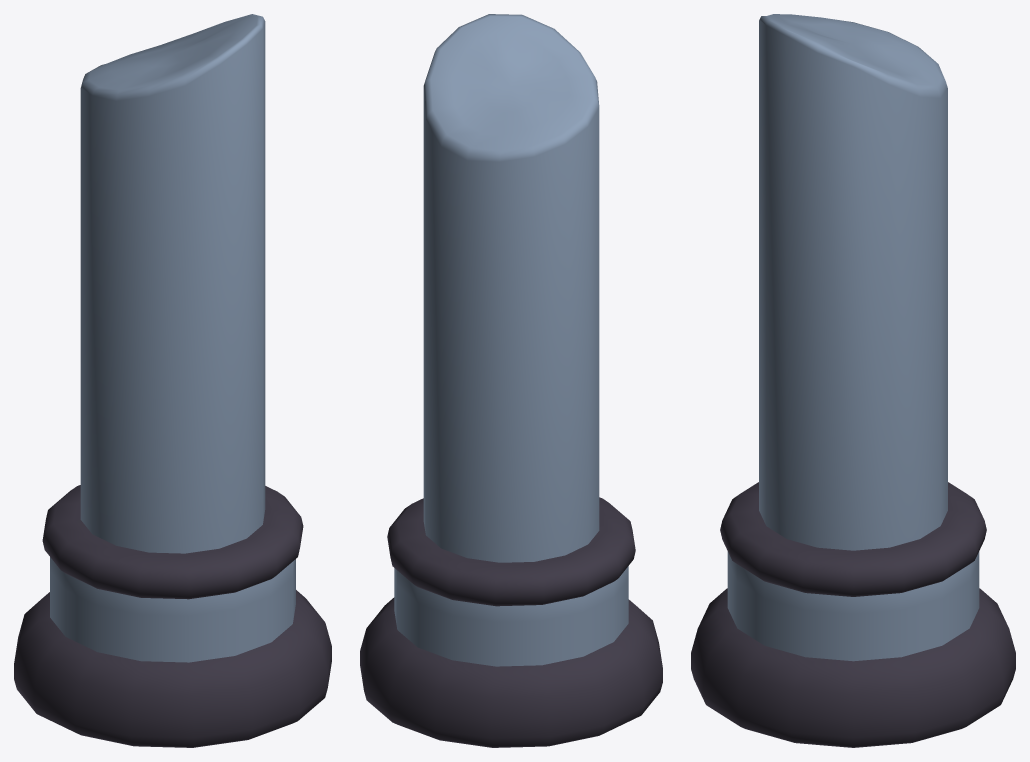
Rendered from ruins-column-2.fbx.
The picture shows the model from 3 angles, left to right: view 1: azimuth 30°, elevation 25°; view 2: azimuth 150°, elevation 25°; view 3: azimuth 270°, elevation 25°; orthographic projection. The views are drawn at different scales.
Visible parts, largest first — view 1: Cylinder, Cylinder.002, Cylinder.001, Cylinder.003; view 2: Cylinder, Cylinder.002, Cylinder.001, Cylinder.003; view 3: Cylinder, Cylinder.002, Cylinder.001, Cylinder.003.
Boxes of the visible parts, <box> form: Cylinder: <box>80,14,265,553</box>; Cylinder.002: <box>14,590,331,747</box>; Cylinder.001: <box>50,557,295,662</box>; Cylinder.003: <box>42,485,303,599</box>; Cylinder: <box>423,14,599,562</box>; Cylinder.002: <box>360,597,662,747</box>; Cylinder.001: <box>394,566,628,666</box>; Cylinder.003: <box>387,497,635,606</box>; Cylinder: <box>759,14,947,550</box>; Cylinder.002: <box>691,588,1015,747</box>; Cylinder.001: <box>727,551,979,661</box>; Cylinder.003: <box>720,482,986,596</box>.
Bounding box in the file's own units: 103 × 238 × 103.
